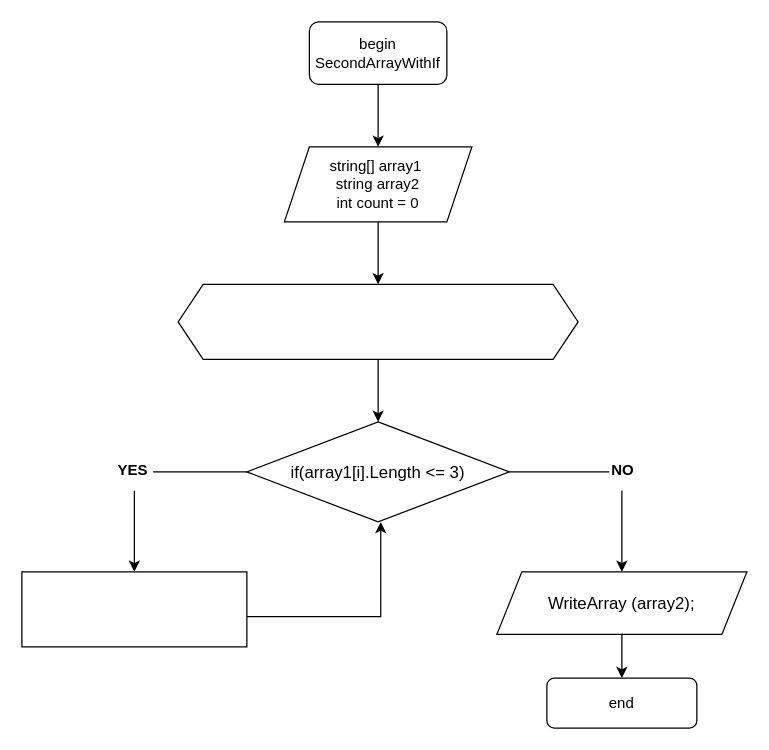
Some shapes in this 769 by 750 pixel diagram are drawn without their labels. The centre of each missing label's shape, as x and y in pixels:
"array2[count] = array1[i]; count++;" belongs at [134,609].
"for ( int i = 0 ; i < array1 . Length ; i ++ )" belongs at [377,321].
